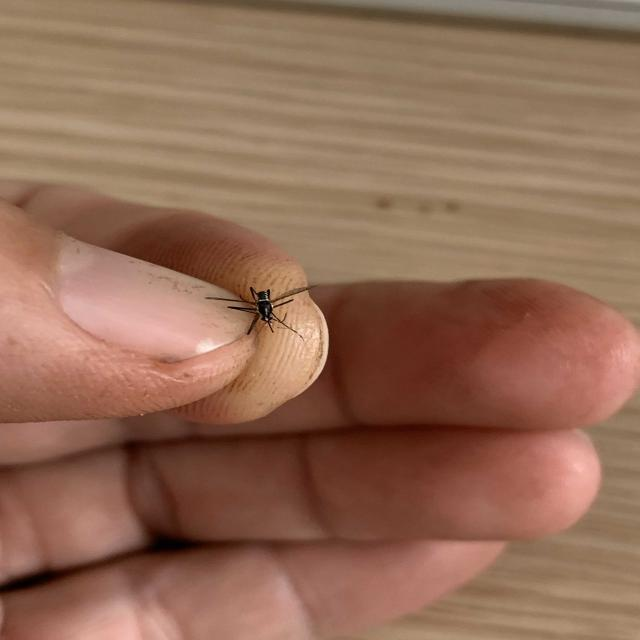albopictus: (202, 270, 318, 341)
